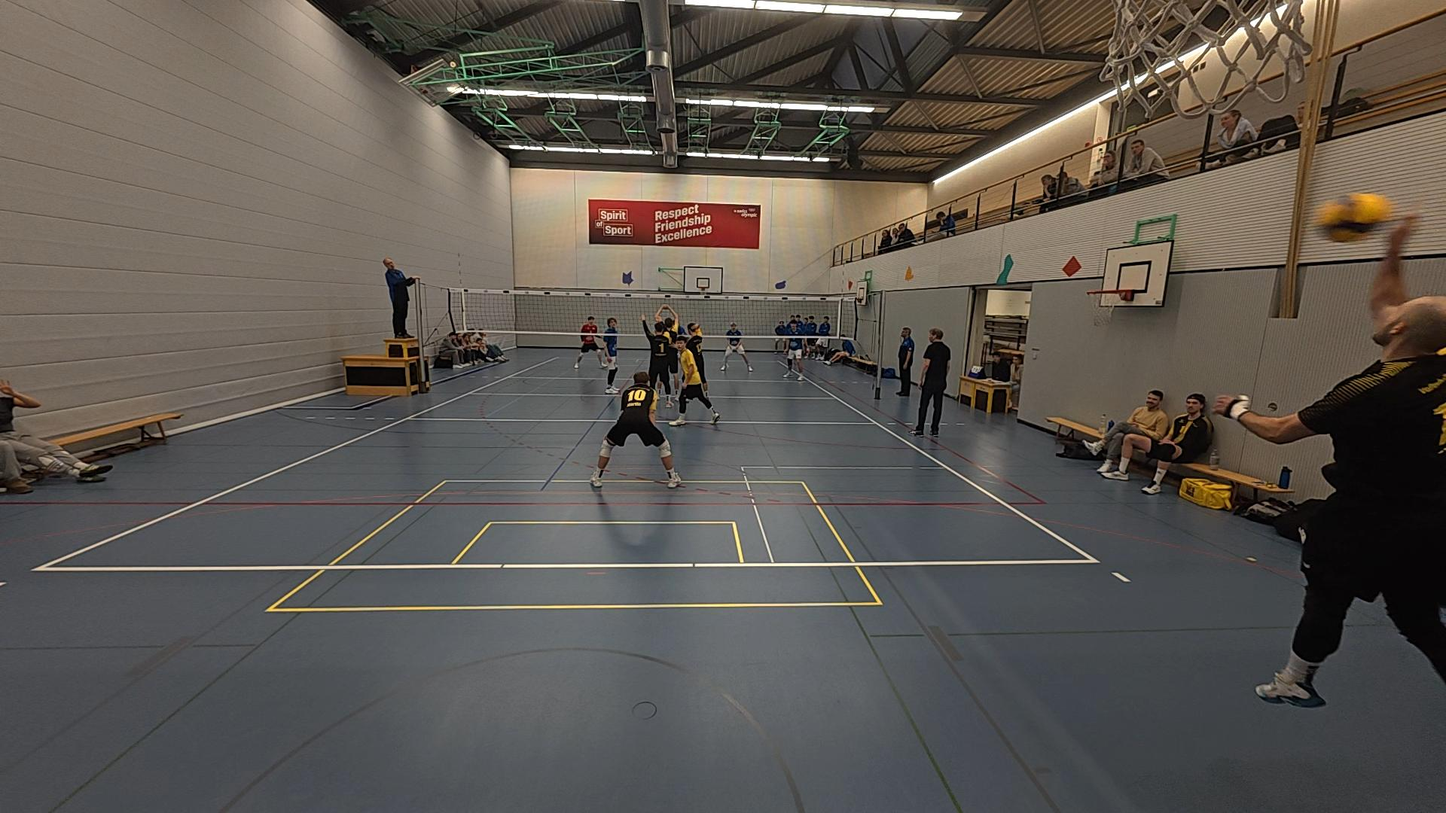battuta: (1219, 207, 1444, 711)
